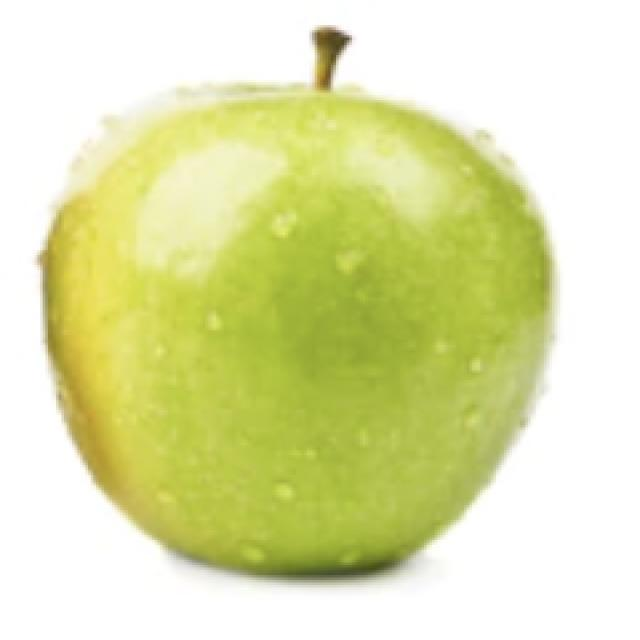Fresh Apple: (65, 106, 542, 592)
